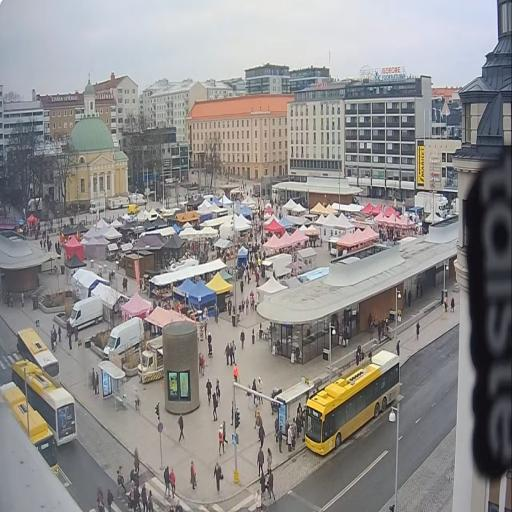Bus: (305, 351, 400, 455), (12, 360, 76, 445), (0, 382, 58, 474), (18, 329, 59, 379)
Delivery: (104, 317, 144, 359), (138, 337, 163, 383), (69, 297, 103, 329)
